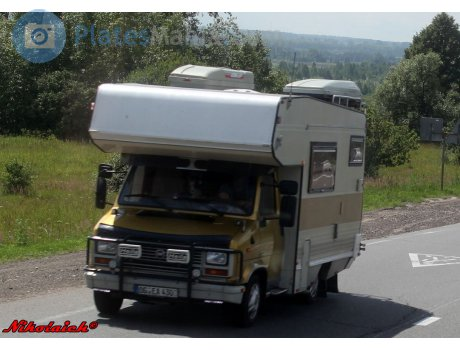License Plates: (140, 283, 175, 294)
